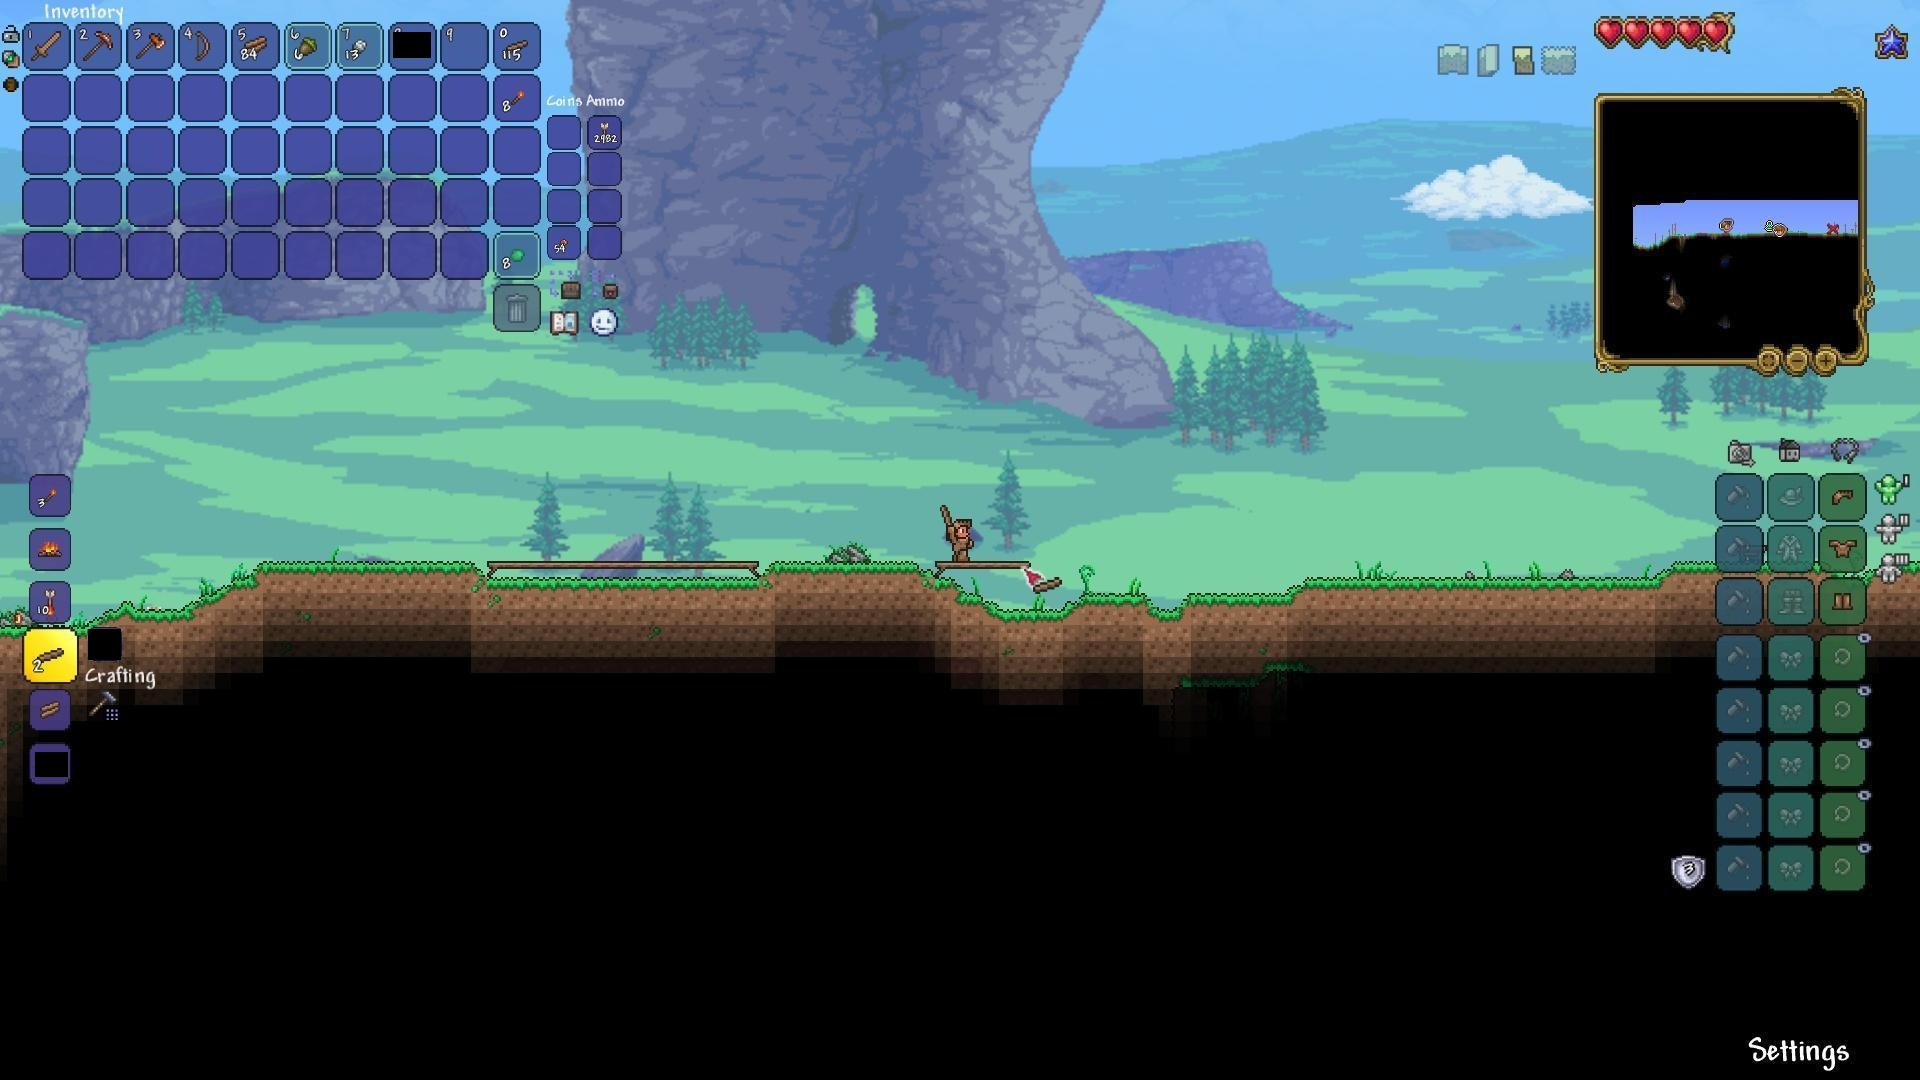breastplate: (1830, 537, 1859, 559)
helmet: (1829, 485, 1858, 510)
legs: (1832, 587, 1857, 616)
wood: (241, 33, 270, 59), (37, 695, 65, 721)
